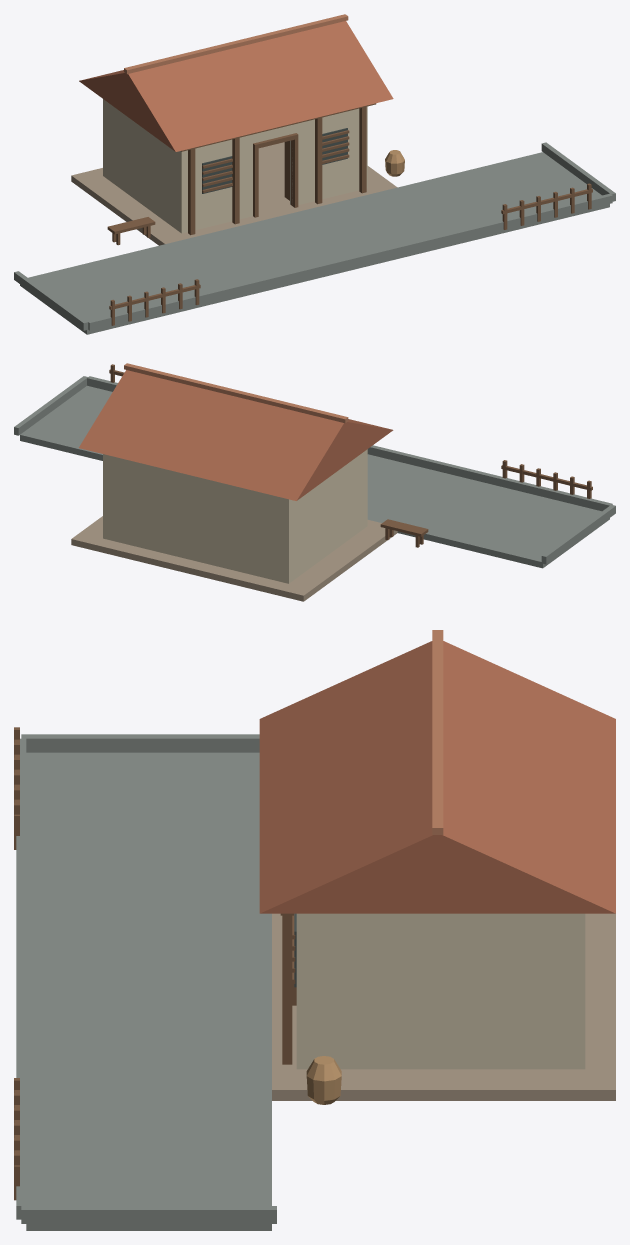
Rendered from blockout_street.glb.
3 renders of one model, top to bottom at view 1: azimuth 30°, elevation 25°; view 2: azimuth 150°, elevation 25°; view 3: azimuth 270°, elevation 25°, orthographic. The views are drawn at different scales.
Visible parts, largest first — view 1: StreetSlab, ClayGableRoof, HouseSlab, SideWallWest, NearCurb, FrontWallWest, FrontWallEast, RoofRidge, WestCurb, EastCurb, VerandaPost00, VerandaPost02 (+7 smaller); view 2: ClayGableRoof, StreetSlab, BackWall, HouseSlab, SideWallWest, NearCurb, RoofRidge, WestCurb, EastCurb, BenchSeat, FenceRail__1; view 3: StreetSlab, ClayGableRoof, SideWallEast, HouseSlab, EastCurb, WestCurb, NearCurb, RoofRidge, BackWall, FrontWallEast, VerandaPost03, EarthenJar.
Part boxes in pixels (x1=…): StreetSlab: x1=20, y1=152, x2=609, y2=334; ClayGableRoof: x1=79, y1=21, x2=393, y2=151; HouseSlab: x1=71, y1=142, x2=397, y2=245; SideWallWest: x1=106, y1=101, x2=186, y2=232; NearCurb: x1=87, y1=193, x2=612, y2=330; FrontWallWest: x1=178, y1=133, x2=256, y2=233; FrontWallEast: x1=290, y1=106, x2=367, y2=204; RoofRidge: x1=124, y1=14, x2=348, y2=74; WestCurb: x1=14, y1=271, x2=88, y2=330; EastCurb: x1=541, y1=142, x2=615, y2=201; VerandaPost00: x1=188, y1=148, x2=195, y2=235; VerandaPost02: x1=315, y1=117, x2=322, y2=204; ClayGableRoof: x1=79, y1=370, x2=393, y2=500; StreetSlab: x1=20, y1=385, x2=609, y2=568; BackWall: x1=103, y1=454, x2=291, y2=583; HouseSlab: x1=71, y1=516, x2=397, y2=601; SideWallWest: x1=283, y1=451, x2=364, y2=582; NearCurb: x1=87, y1=376, x2=612, y2=511; RoofRidge: x1=124, y1=363, x2=348, y2=423; WestCurb: x1=541, y1=505, x2=615, y2=564; EastCurb: x1=14, y1=376, x2=87, y2=435; BenchSeat: x1=380, y1=519, x2=428, y2=536; FenceRail__1: x1=501, y1=465, x2=592, y2=490; StreetSlab: x1=26, y1=752, x2=271, y2=1230; ClayGableRoof: x1=259, y1=641, x2=615, y2=913; SideWallEast: x1=297, y1=913, x2=584, y2=1069; HouseSlab: x1=272, y1=913, x2=615, y2=1100; EastCurb: x1=21, y1=1206, x2=276, y2=1223; WestCurb: x1=21, y1=734, x2=259, y2=752; NearCurb: x1=16, y1=738, x2=26, y2=1219; RoofRidge: x1=432, y1=630, x2=443, y2=834; BackWall: x1=574, y1=913, x2=585, y2=1069; FrontWallEast: x1=296, y1=913, x2=307, y2=1069; VerandaPost03: x1=282, y1=915, x2=292, y2=1064; EarthenJar: x1=306, y1=1056, x2=341, y2=1104.
Size of the model in its own units: 18.32 by 4.82 by 9.8.
